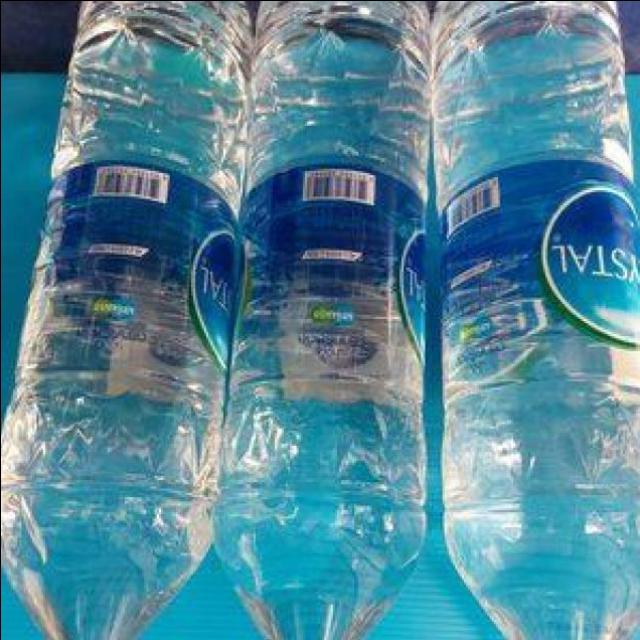plastik: (0, 0, 251, 640), (216, 0, 428, 640), (431, 0, 640, 640)
